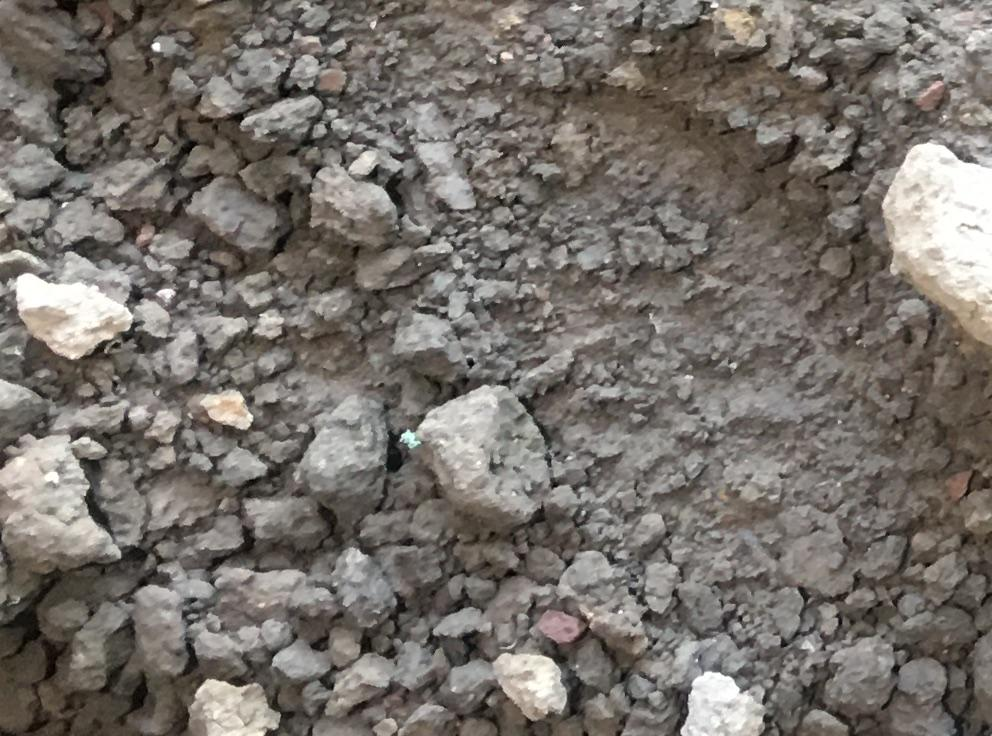block: (408, 384, 552, 538), (883, 140, 992, 342), (1, 438, 122, 575)
